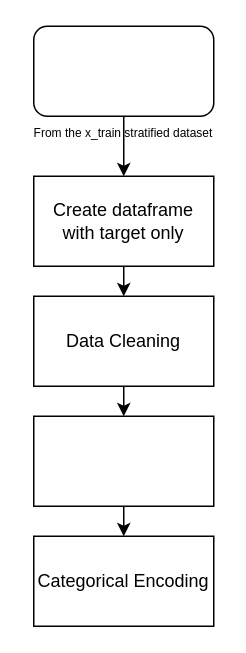
Some shapes in this 246 by 653 pixel diagram are drawn without their labels. The box of each missing label's shape, as (x1, y1, x2, y2) in pixels:
Create dataframe with features only: (32, 25, 214, 116)
Optional: Dropping Outliers: (32, 415, 214, 506)
